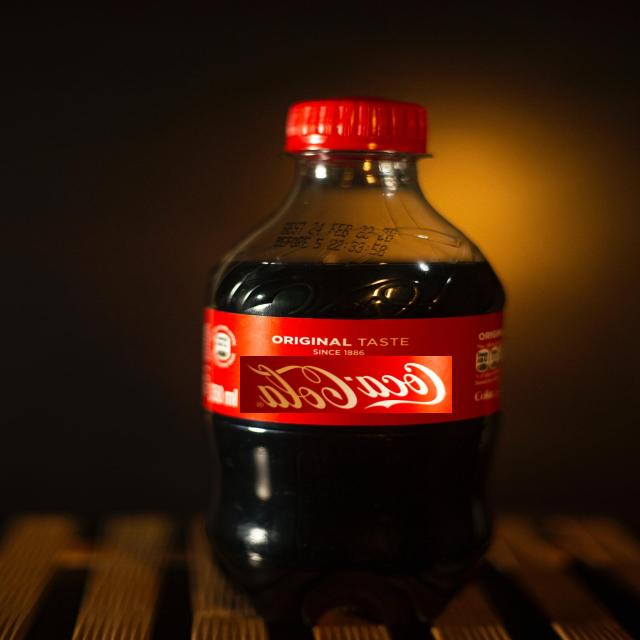coca-cola: (240, 356, 452, 413)
